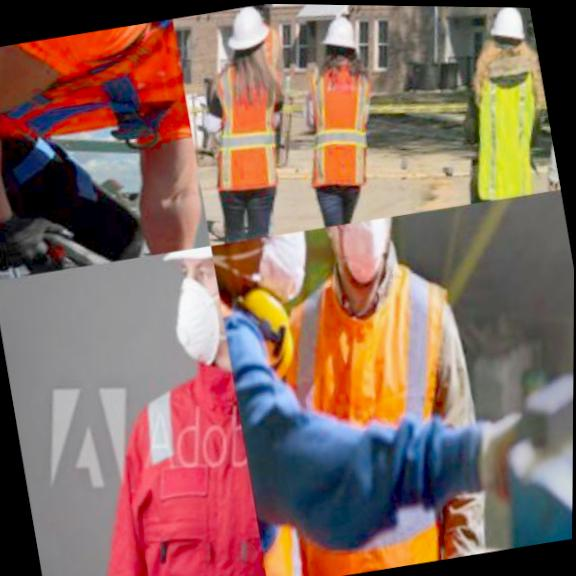safety_vest: (226, 235, 505, 576), (39, 335, 269, 576), (215, 268, 372, 576), (0, 16, 192, 176), (188, 43, 309, 203), (450, 40, 561, 202), (285, 51, 398, 200), (245, 12, 300, 73)
